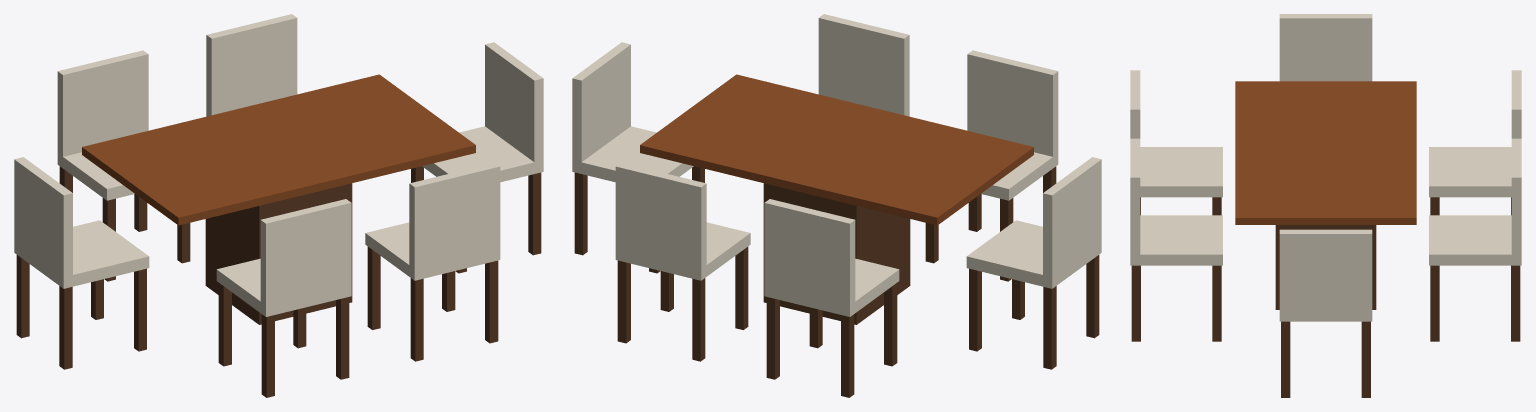
Rendered from comedor-berlin.glb.
3 views of the same model, side by side, from view 1: azimuth 30°, elevation 25°; view 2: azimuth 150°, elevation 25°; view 3: azimuth 270°, elevation 25° (orthographic). The views are drawn at different scales.
Parts seen in each view (by area): view 1: comedor-berlin; view 2: comedor-berlin; view 3: comedor-berlin.
Boxes of the visible parts, box(x1,y1,x2,y2) form: comedor-berlin: box(14, 14, 543, 397); comedor-berlin: box(572, 14, 1101, 397); comedor-berlin: box(1130, 14, 1521, 397).
Size of the model in its own units: 2.58 by 0.9 by 1.94.
